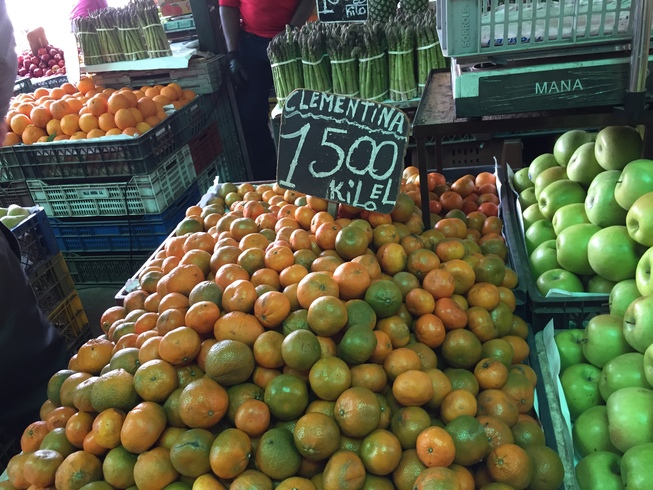precio: (277, 86, 415, 218)
